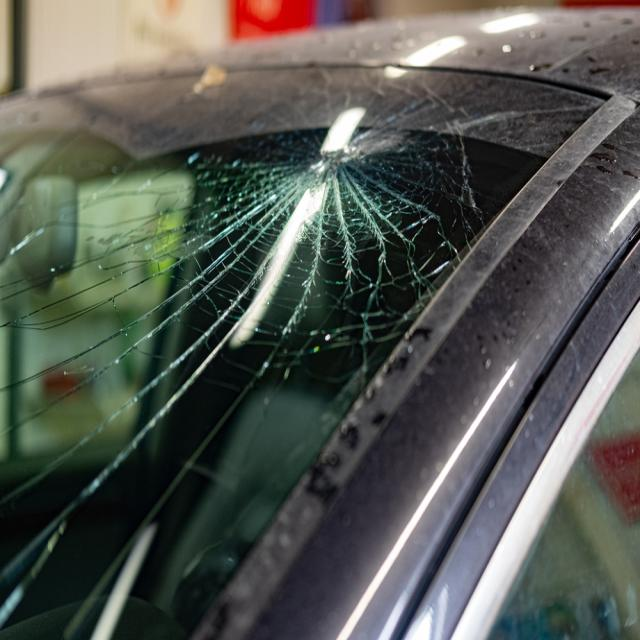Fissure: (0, 49, 511, 625)
